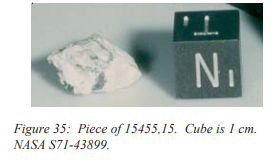Breccia: (45, 21, 141, 98)
